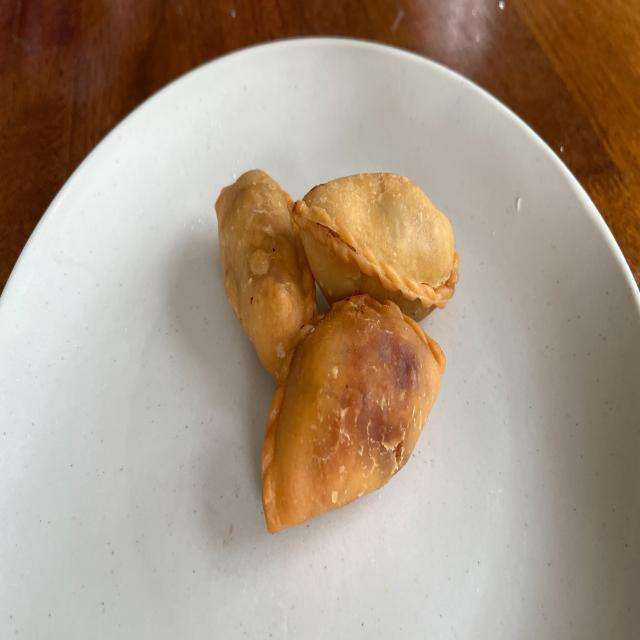karipap: (262, 296, 445, 533), (290, 173, 459, 320), (215, 169, 318, 380)
